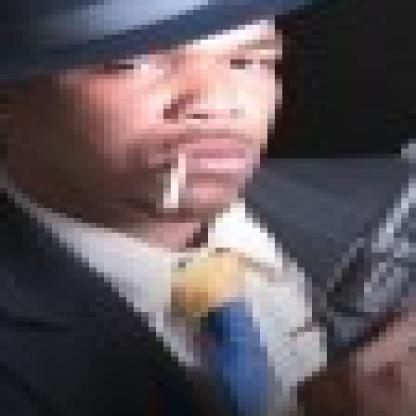gun: (297, 134, 409, 411)
